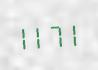one: (18, 22, 32, 51), (33, 21, 47, 50), (63, 19, 77, 47)
seven: (48, 20, 62, 49)
